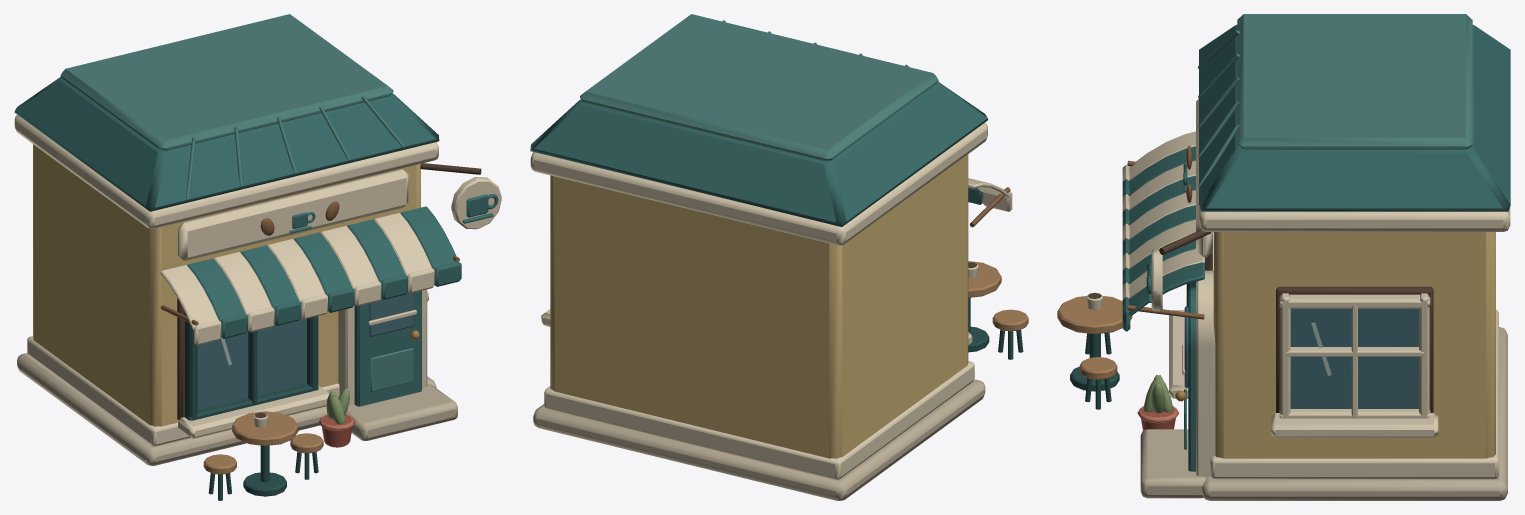
Rendered from cafe_level_2.glb.
3 views of the same model, side by side, from view 1: azimuth 30°, elevation 25°; view 2: azimuth 150°, elevation 25°; view 3: azimuth 270°, elevation 25° (orthographic). The views are drawn at different scales.
Visible parts, largest first — view 1: cafe_level_2_runtime; view 2: cafe_level_2_runtime; view 3: cafe_level_2_runtime.
Part boxes in pixels (x1,y1,x2,y2): cafe_level_2_runtime: (14,14,501,500); cafe_level_2_runtime: (530,14,1028,500); cafe_level_2_runtime: (1057,14,1510,500).
Bounding box in the file's own units: 3.69 × 3.27 × 3.85.
